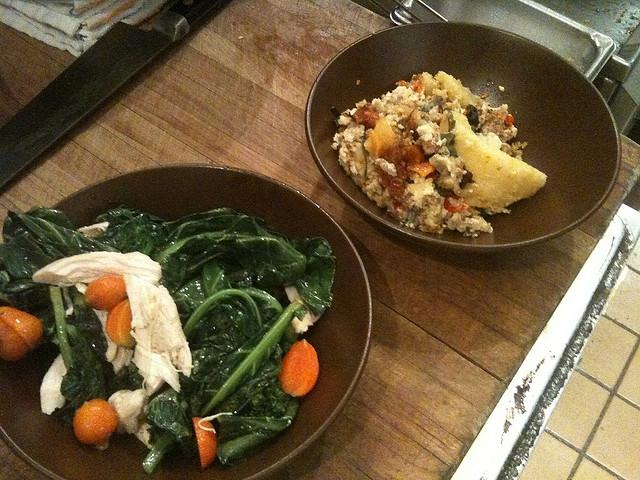carrot: (279, 338, 319, 397), (72, 398, 120, 447), (0, 306, 41, 350), (105, 298, 137, 349), (85, 275, 128, 311), (0, 317, 29, 361), (192, 417, 217, 468)
